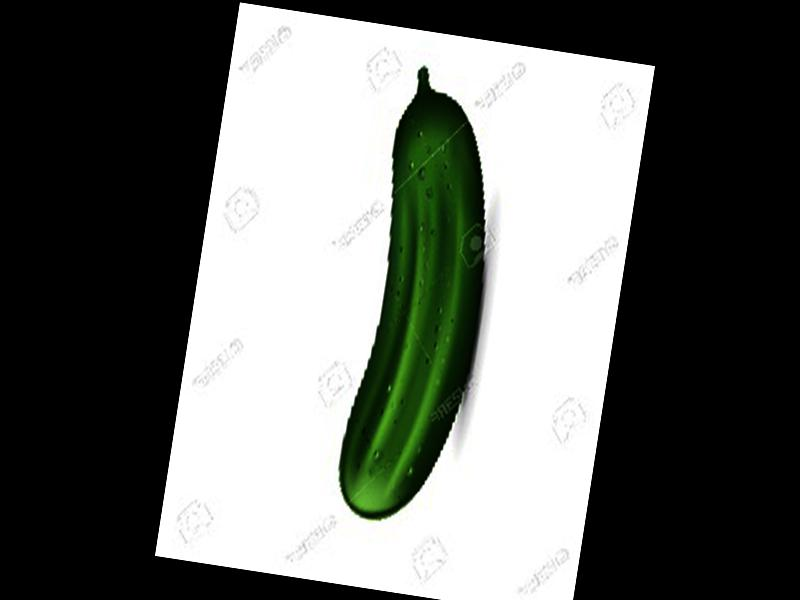Cucumber: (332, 64, 516, 531)
